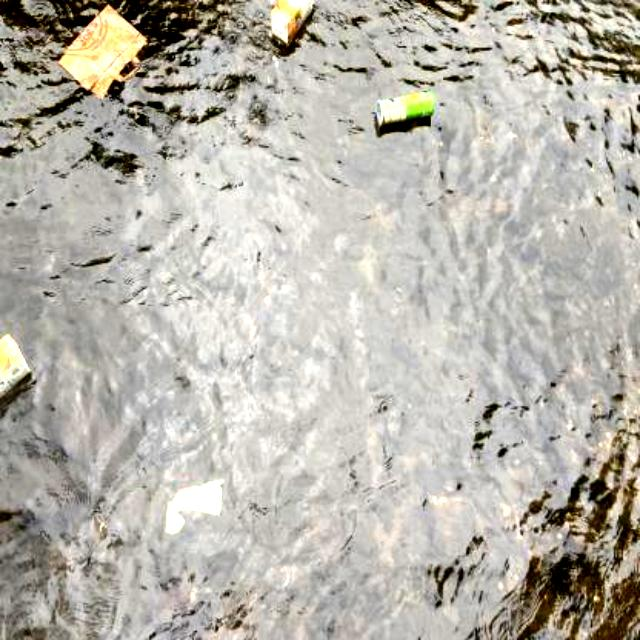Cardboard: (265, 0, 317, 52)
Metal: (367, 89, 439, 129), (0, 329, 34, 405)
Paper: (56, 0, 150, 106)
Plastic: (162, 470, 226, 538)
